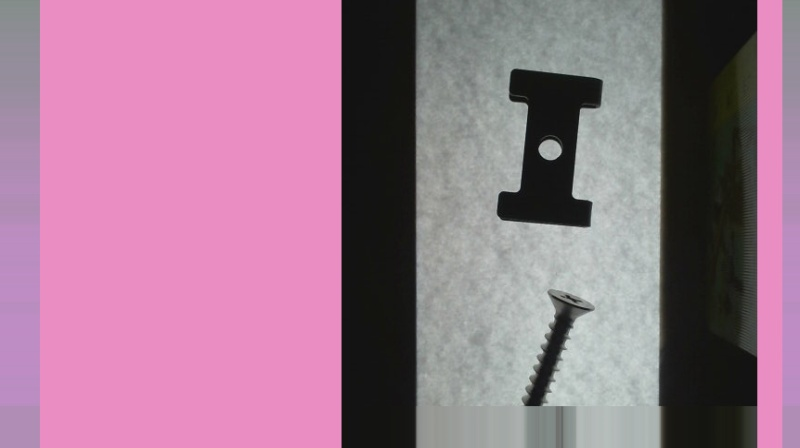O002: (494, 60, 605, 232)
S001: (512, 282, 597, 447)
